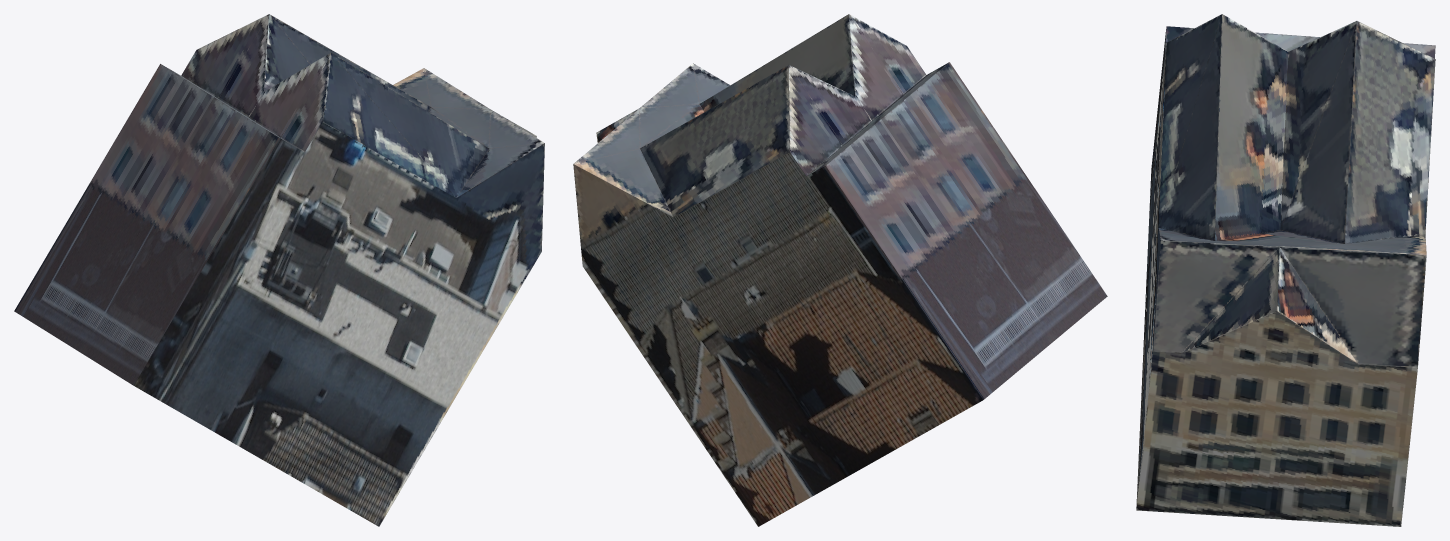
The picture shows the model from 3 angles, left to right: view 1: azimuth 30°, elevation 25°; view 2: azimuth 150°, elevation 25°; view 3: azimuth 270°, elevation 25°; orthographic projection. The views are drawn at different scales.
Visible parts, largest first — view 1: BAG_0599100000767277 (×5); view 2: BAG_0599100000767277 (×5); view 3: BAG_0599100000767277 (×5).
Part boxes in pixels (x1,y1,x2,y2): BAG_0599100000767277 (×5): (14, 14, 544, 526); BAG_0599100000767277 (×5): (573, 14, 1107, 526); BAG_0599100000767277 (×5): (1136, 14, 1435, 526).
Size of the model in its own units: 24.52 by 23.53 by 12.58.
5 materials, 5 textured.
